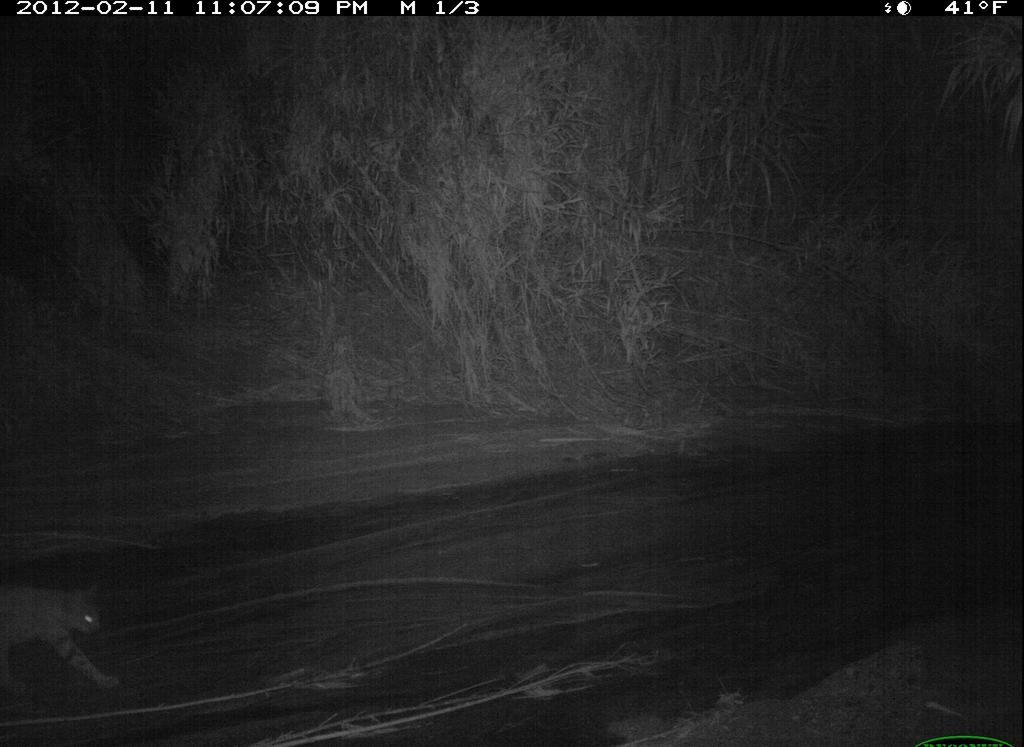bobcat: (3, 559, 118, 708)
